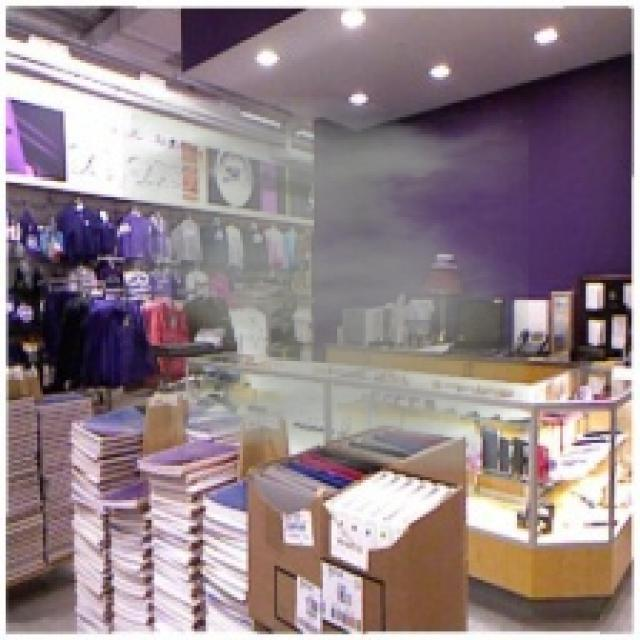Smoke: (122, 97, 528, 472)
